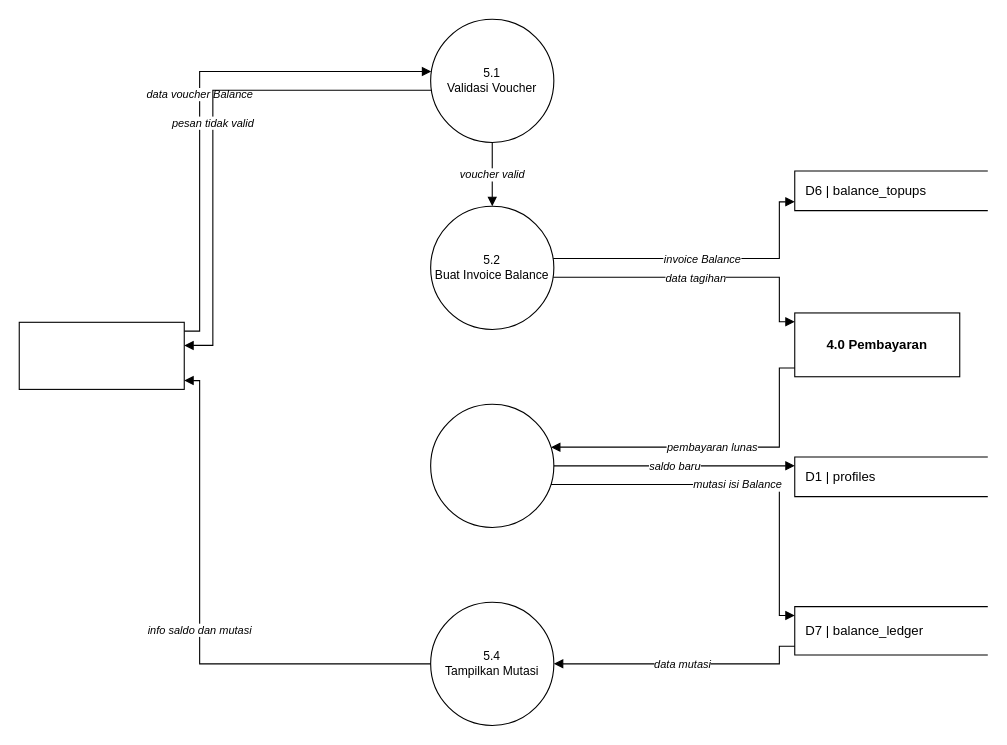
The diagram is 1007 pixels wide and 745 high, and some of its shapes have lost their labels. Here are the shapes that lost their labels. From the top down, the centre of each, then its label:
the point at 101,355: Pengguna
the point at 492,465: 5.3 Tambah Saldo
